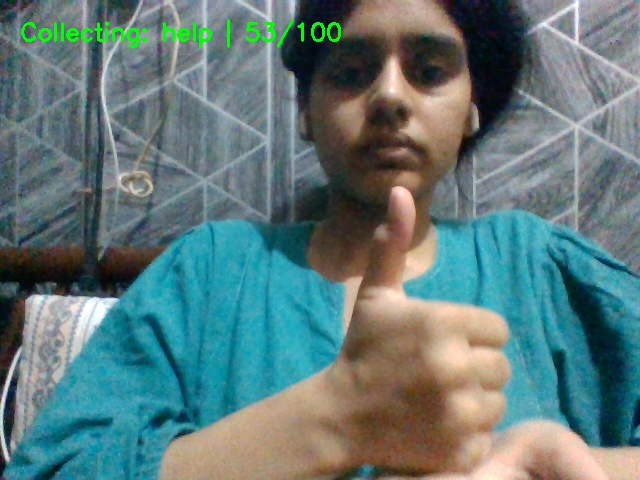help: (279, 184, 631, 480)
